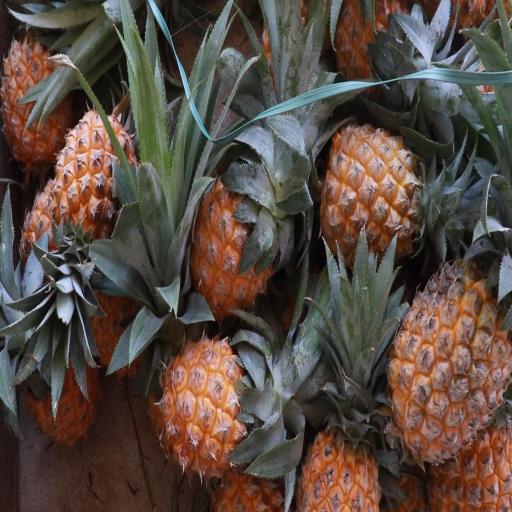Pineapple - v8 v1: (385, 244, 512, 470), (316, 115, 456, 281), (154, 331, 288, 486), (181, 161, 289, 333), (47, 101, 157, 267), (296, 366, 386, 512), (0, 25, 84, 177)
